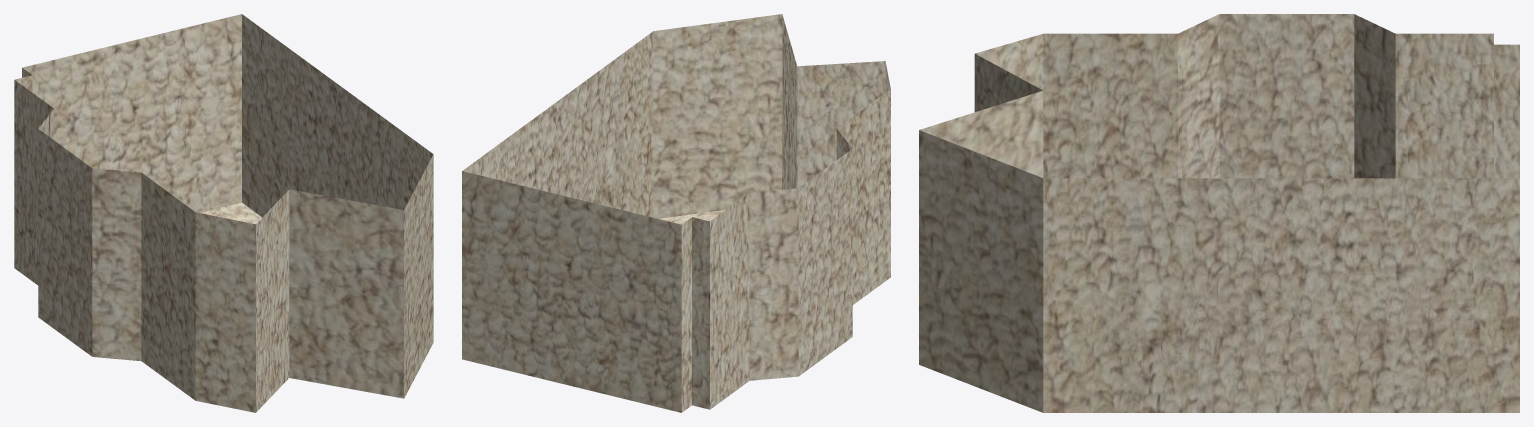
File: wall.fbx
The picture shows the model from 3 angles, left to right: view 1: azimuth 30°, elevation 25°; view 2: azimuth 150°, elevation 25°; view 3: azimuth 270°, elevation 25°; orthographic projection. The views are drawn at different scales.
Visible parts, largest first — view 1: Floor; view 2: Floor; view 3: Floor.
Boxes of the visible parts, <box> form: Floor: <box>14,14,433,412</box>; Floor: <box>462,14,890,412</box>; Floor: <box>919,14,1519,412</box>.
Bounding box in the file's own units: 375 × 250 × 580.
